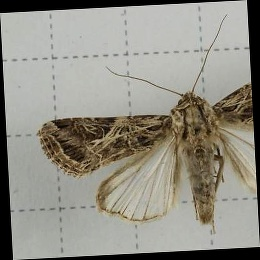Spodoptera litura: (37, 18, 254, 236)
